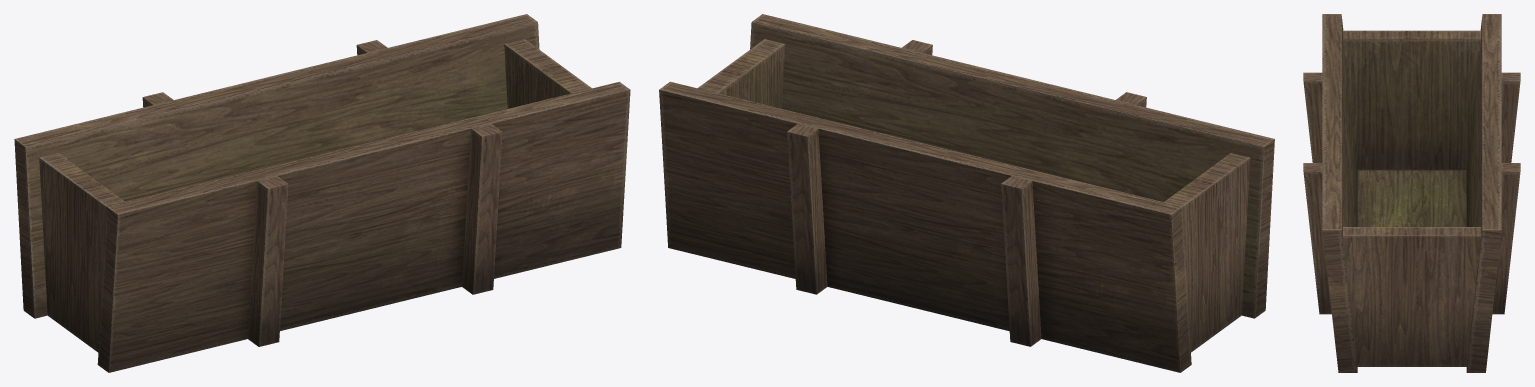
The model's file is Horse.Through.fbx.
3 views of the same model, side by side, from view 1: azimuth 30°, elevation 25°; view 2: azimuth 150°, elevation 25°; view 3: azimuth 270°, elevation 25° (orthographic). The views are drawn at different scales.
Parts seen in each view (by area): view 1: Horse.Through; view 2: Horse.Through; view 3: Horse.Through.
Part boxes in pixels (x1,y1,x2,y2): Horse.Through: (14,14,630,372); Horse.Through: (659,14,1274,372); Horse.Through: (1303,14,1520,372).
Size of the model in its own units: 186 by 57.32 by 79.06.
